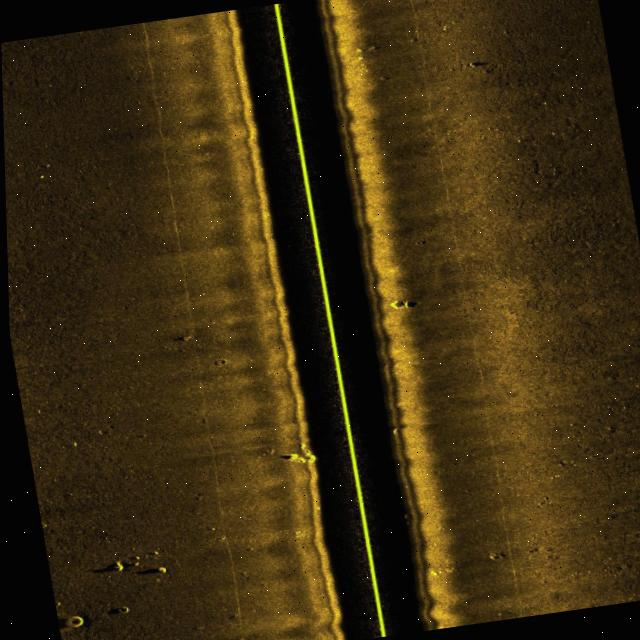other: (94, 538, 180, 594), (265, 431, 323, 474), (382, 288, 425, 320), (53, 606, 86, 636)
